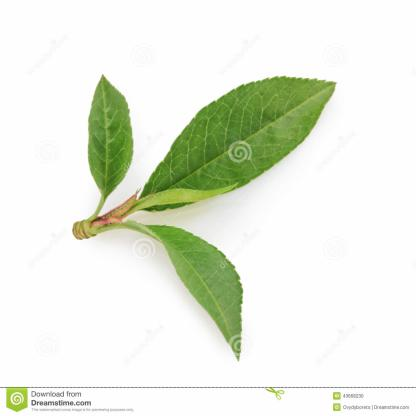Peach leaf: (137, 70, 348, 208), (123, 219, 243, 363), (81, 72, 137, 202)
